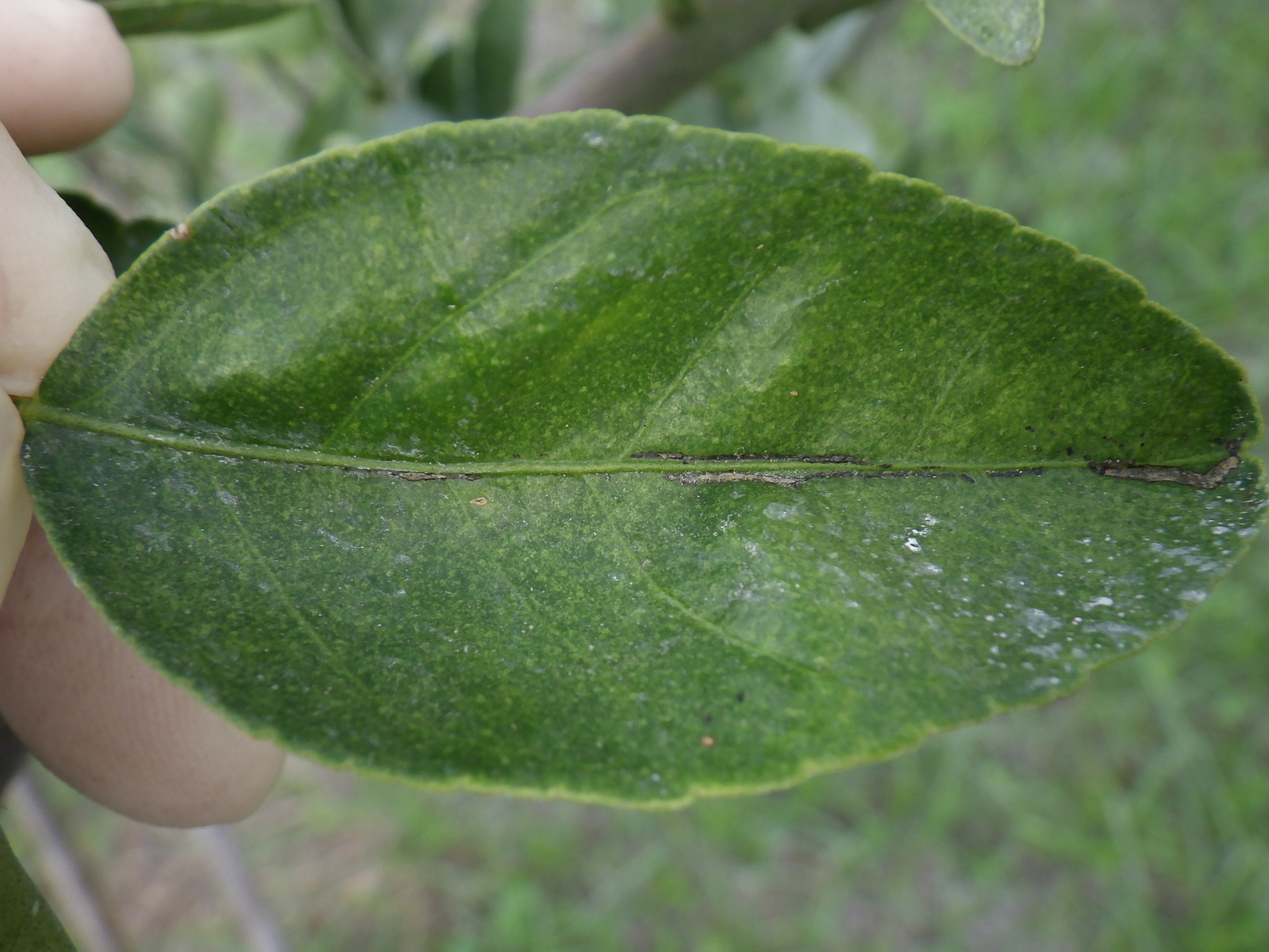Thrips_Damage: (373, 454, 1240, 488)
